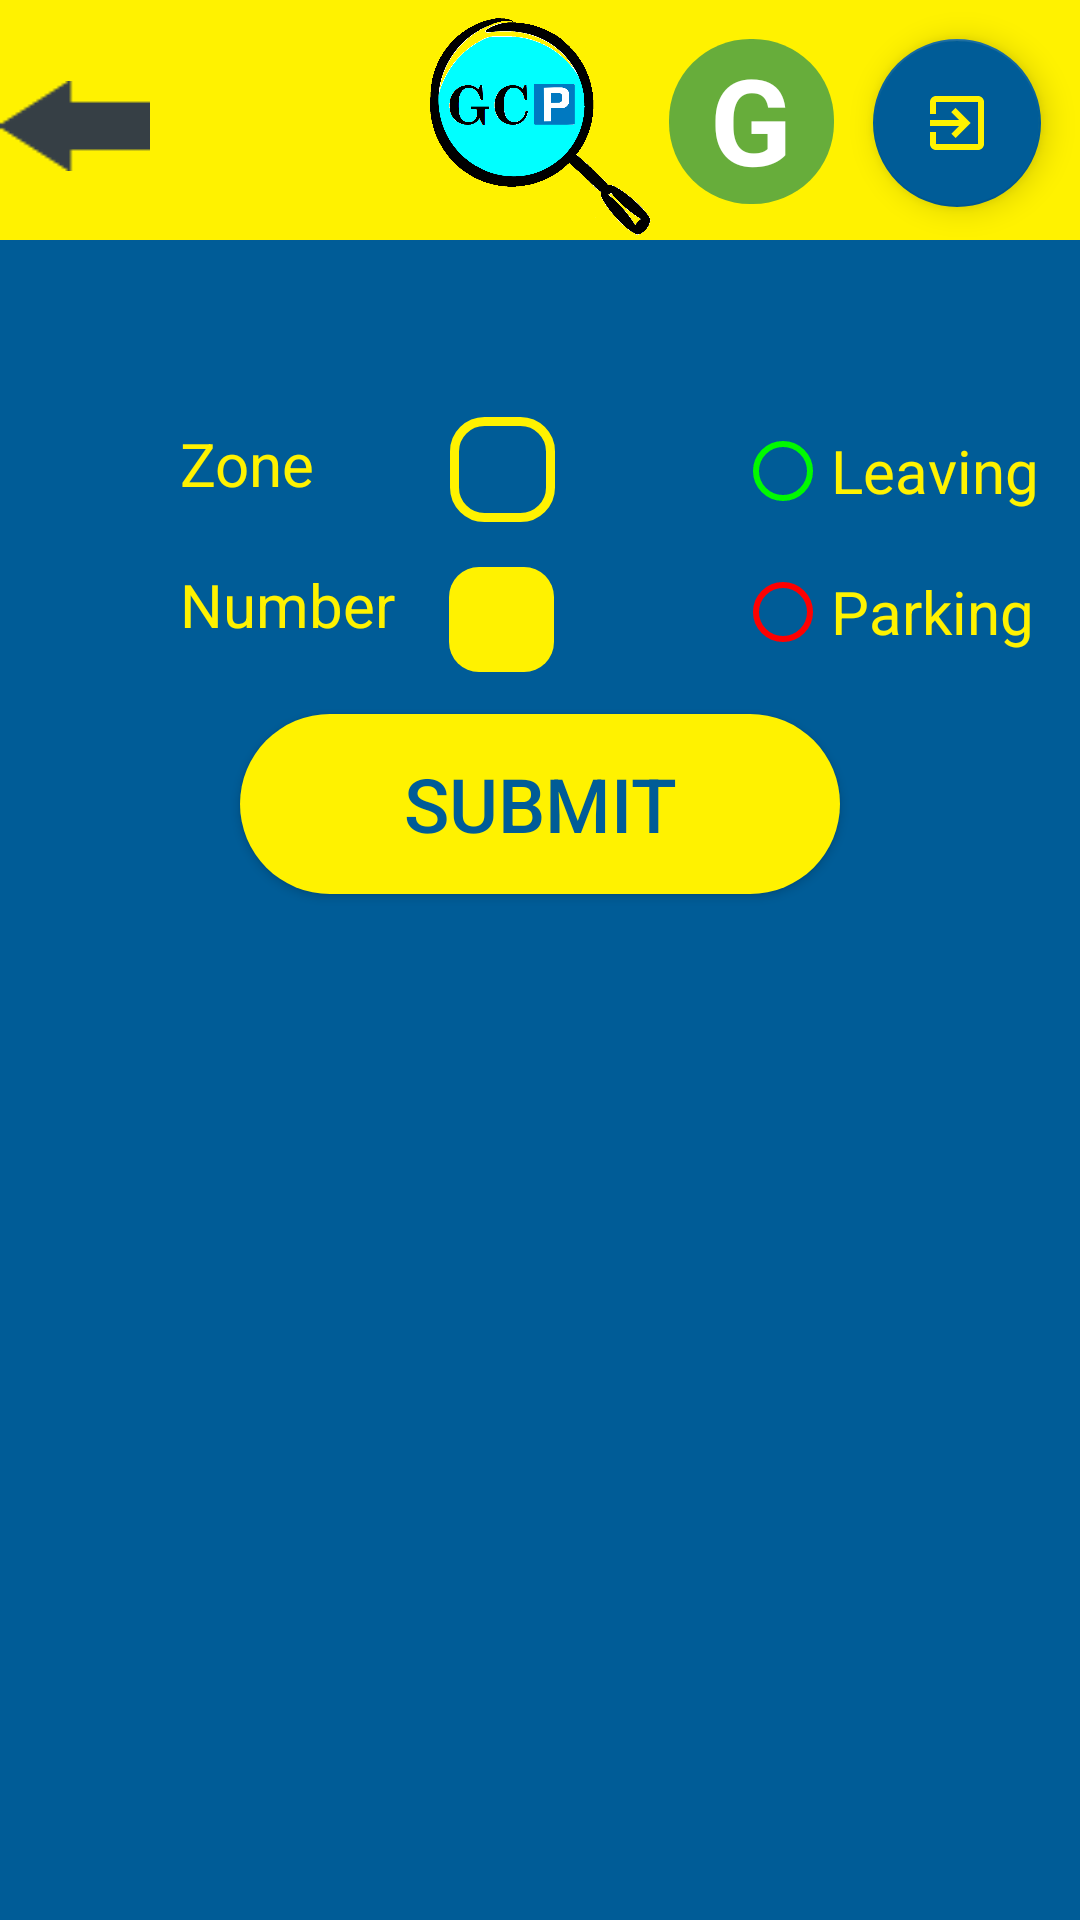

Named icons in this screenshot (1080px×1920px) and their bounding boxes, box=[x1, y1, x2, y2]:
back: box=[0, 81, 150, 171]
exit: box=[873, 39, 1041, 207]
